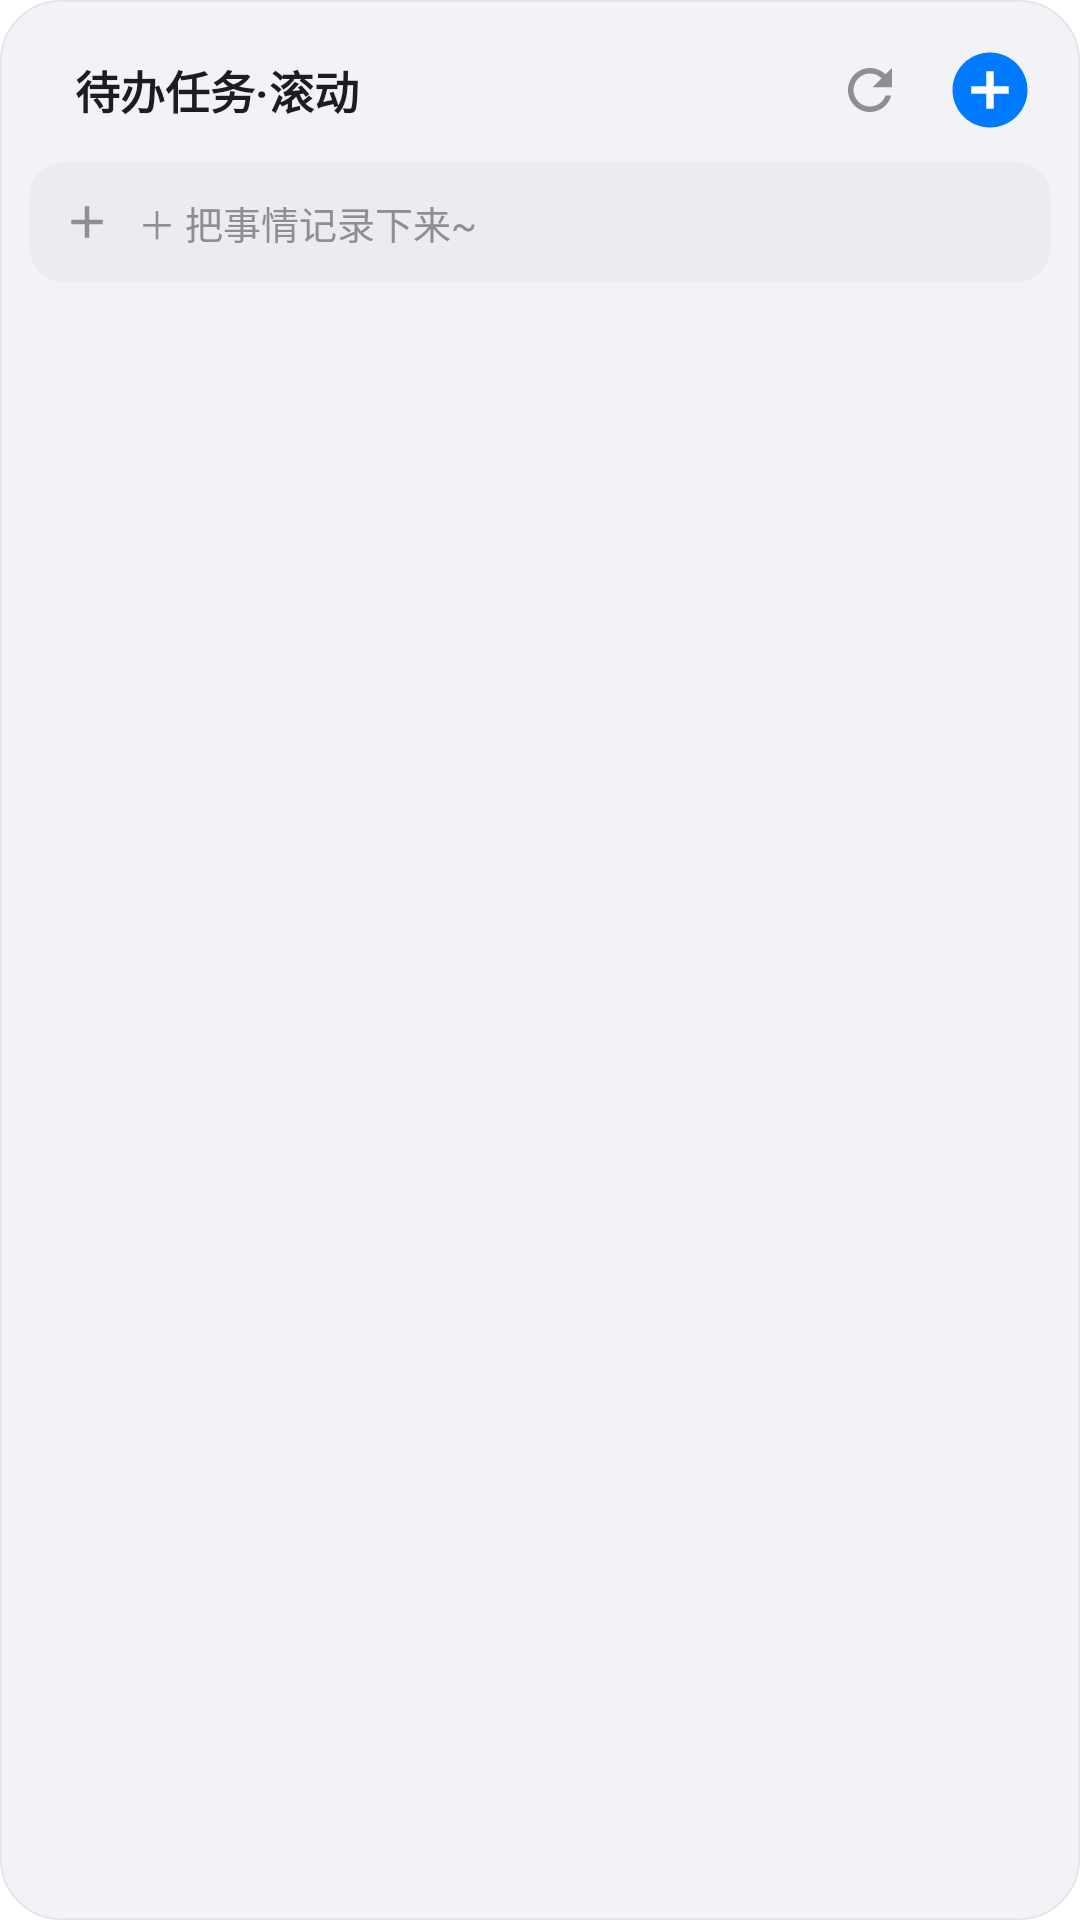

Named icons in this screenshot (1080 x 1920) and their bounding boxes, box=[x1, y1, x2, y2]:
plus: box=[71, 206, 103, 238]
refresh: box=[848, 68, 892, 112]
＋新增: box=[952, 52, 1028, 128]
